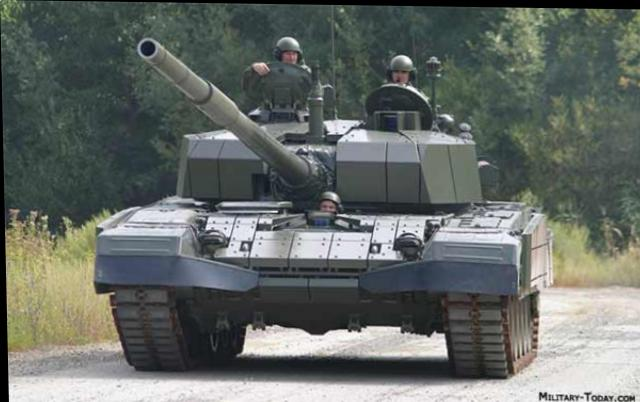other: (242, 24, 318, 100), (408, 27, 439, 54)
tank: (107, 96, 555, 379)
